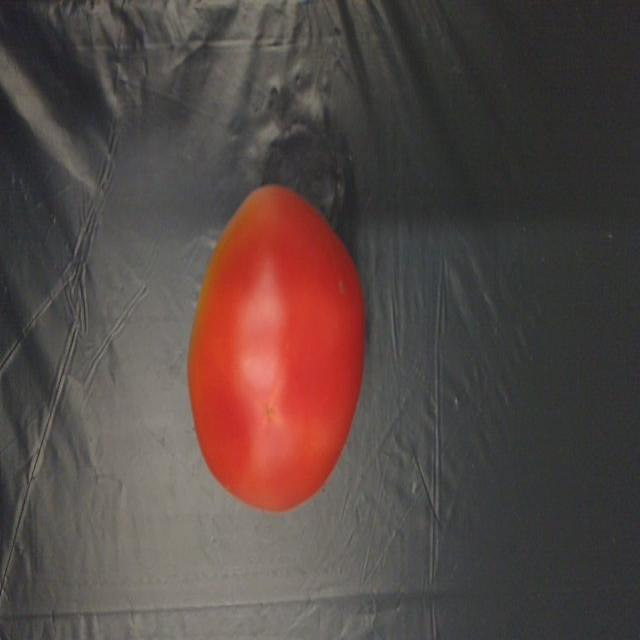kirmizi: (177, 166, 374, 512)
